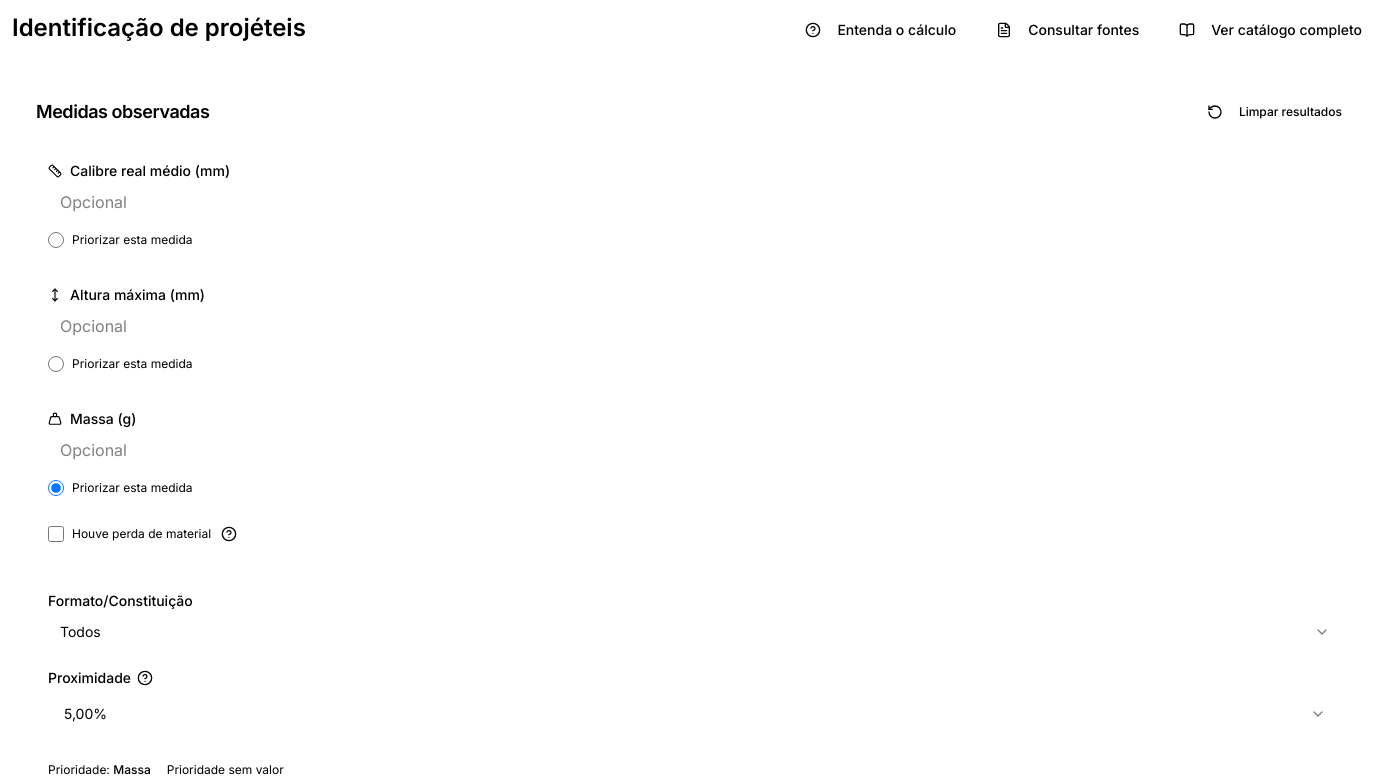
Test case: página de projéteis › a perda de material com apenas massa não sugere proximidade
The width and height of the screenshot is (1390, 780).
Type "8,0" into the field labelled "Massa (g)" at (695, 450), box [48,432,1342,468]
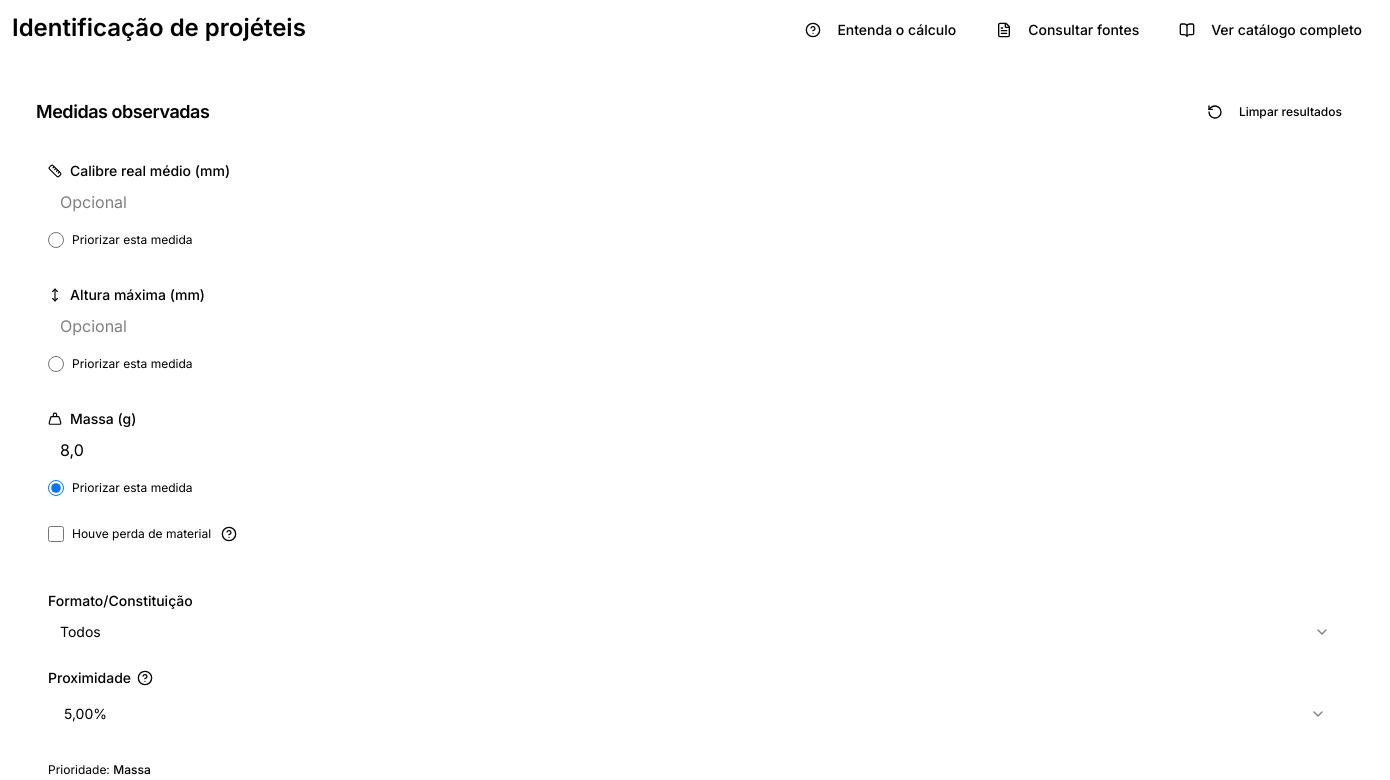
Click the checkbox labelled "Houve perda de material" at (56, 534), box [48,526,64,542]
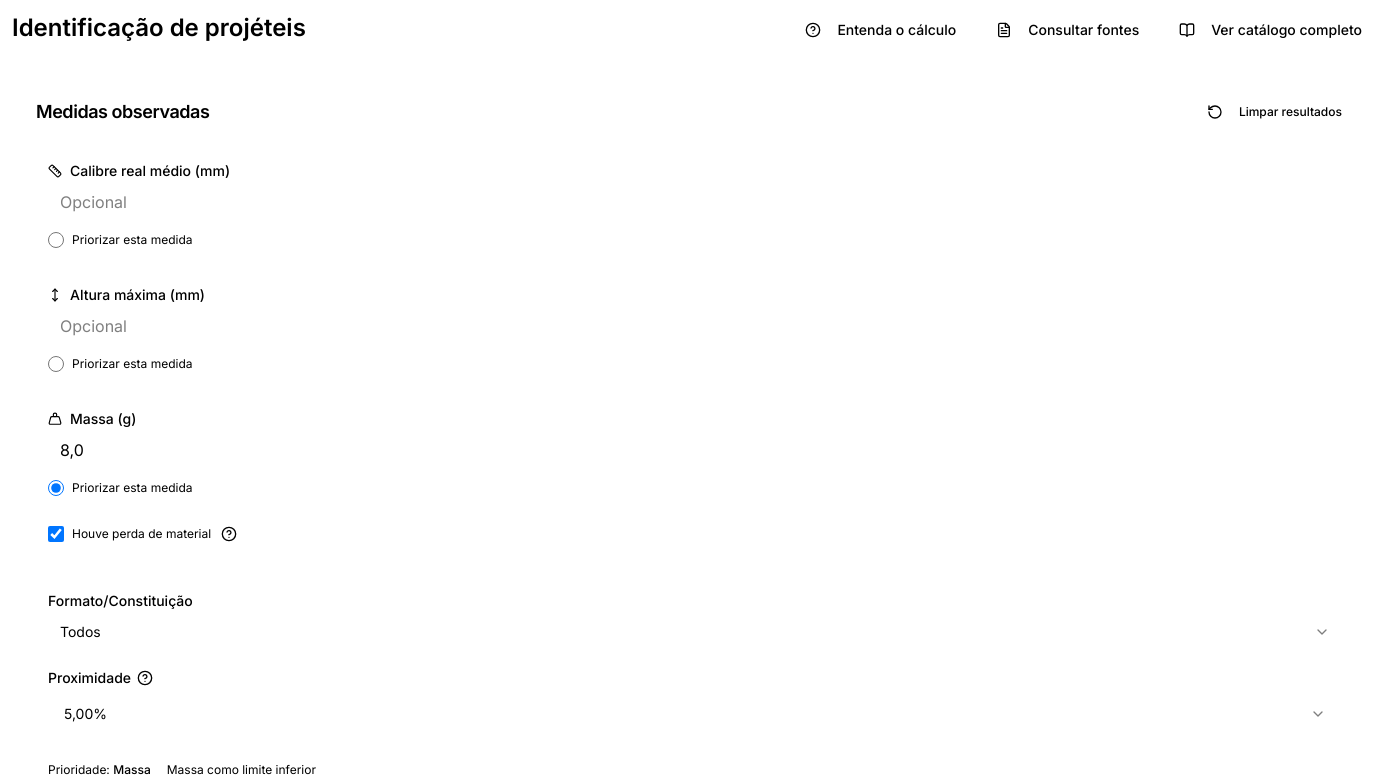
Result: the text "Massa como limite inferior" is shown at [167,762,316,778]
